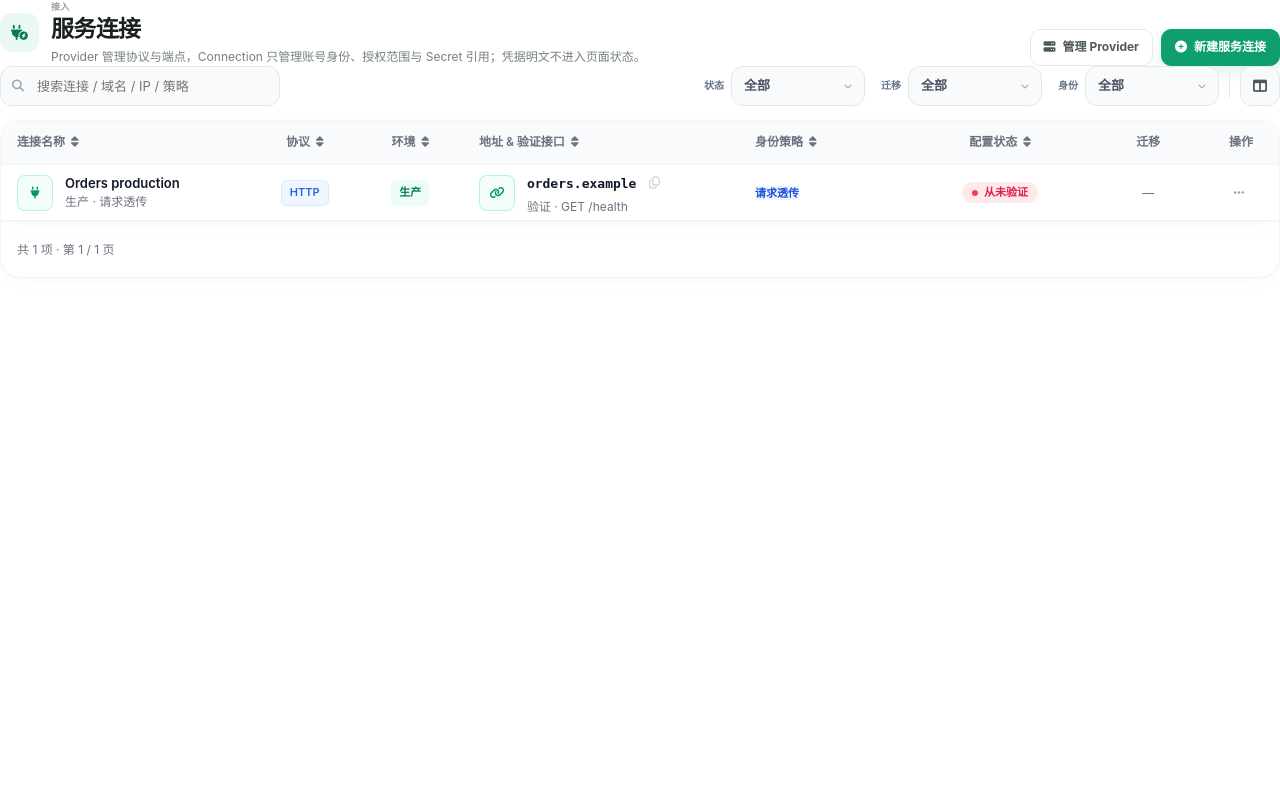
Test case: service connections v1 behavior › treats an edited outbound form field as an unsaved form change
Click the button "新建服务连接".
click(1220, 47)  # box [1161, 29, 1279, 66]
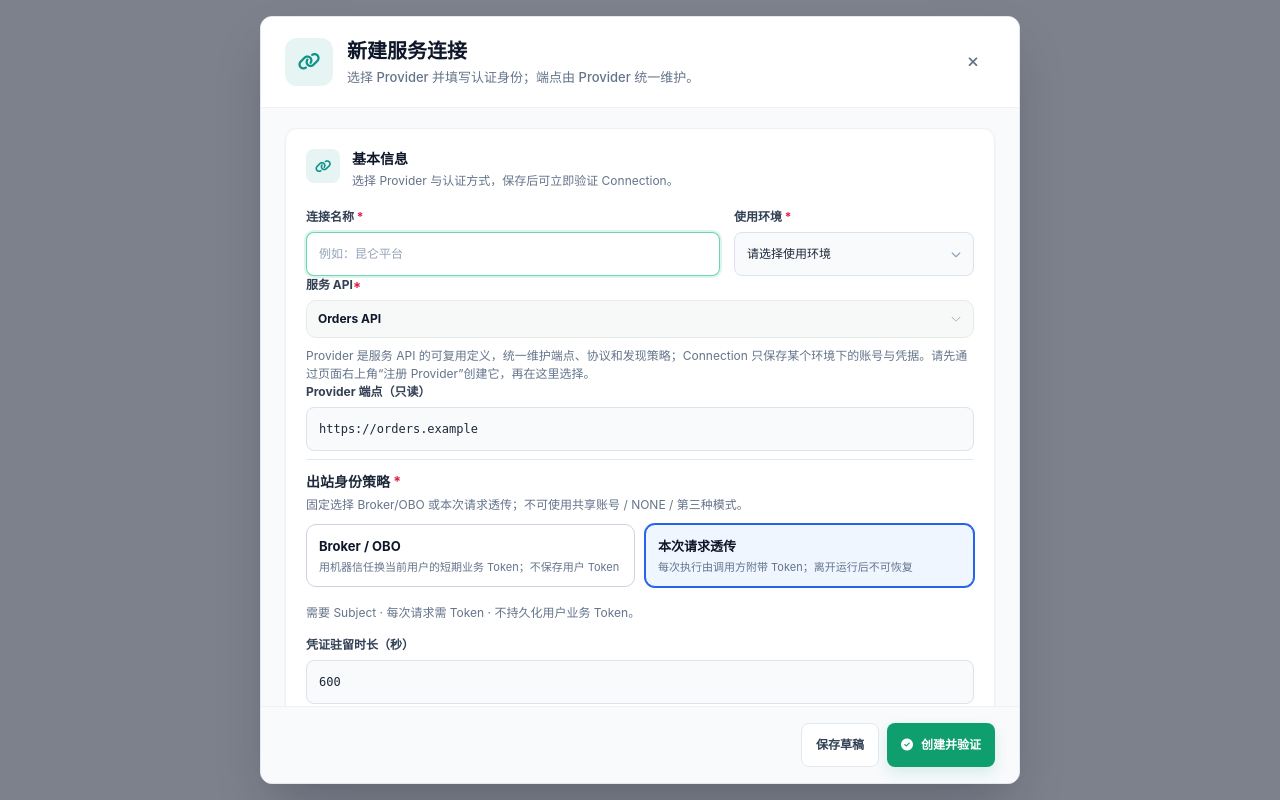
Replace the text in the number field with test id "passthrough-max-residence" with "1200" at coordinates (640, 682), box [306, 660, 974, 704]
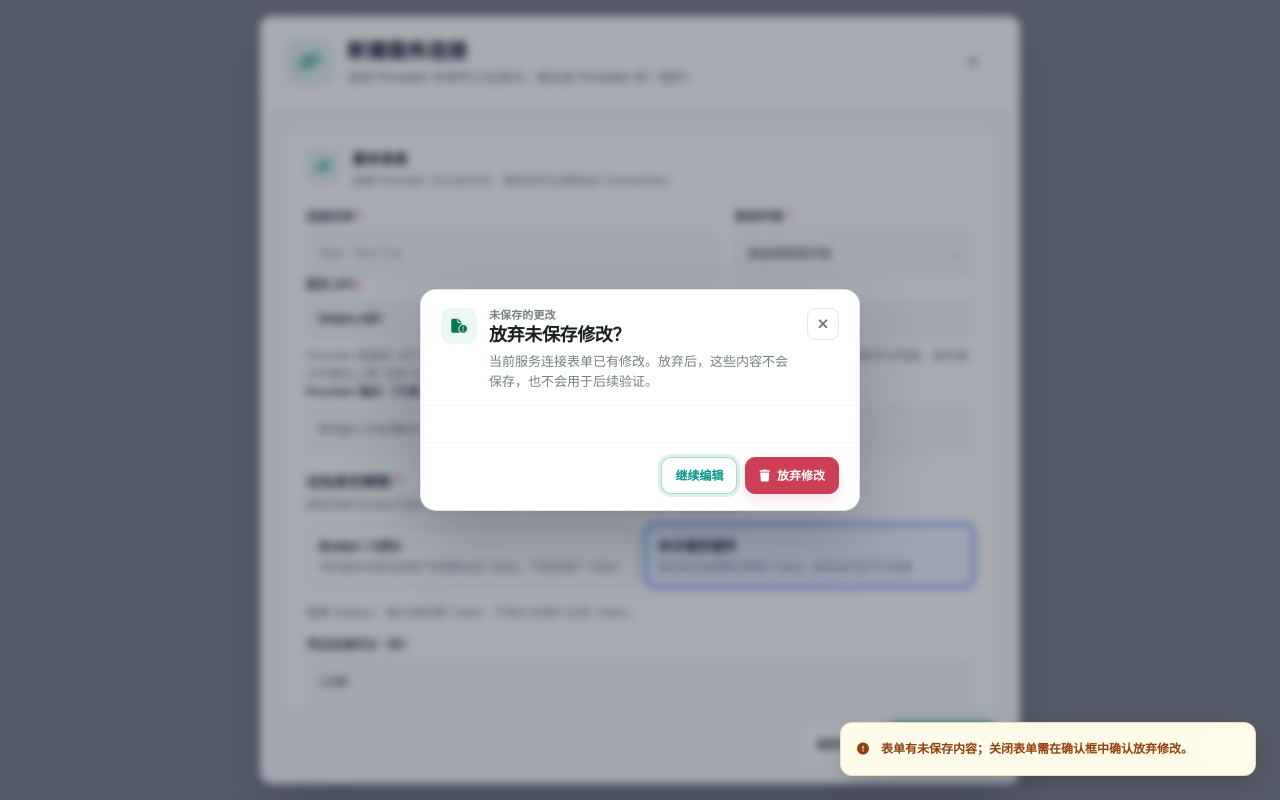
Check: the text "放弃未保存修改？" is shown, box [489, 324, 630, 345]
